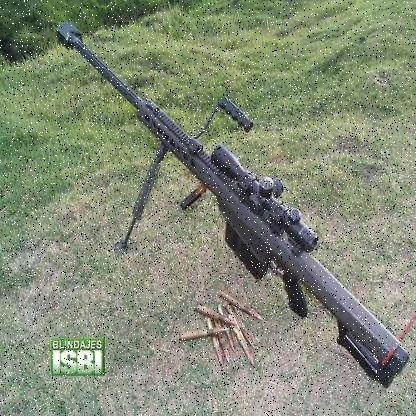rifle: (48, 14, 415, 392)
